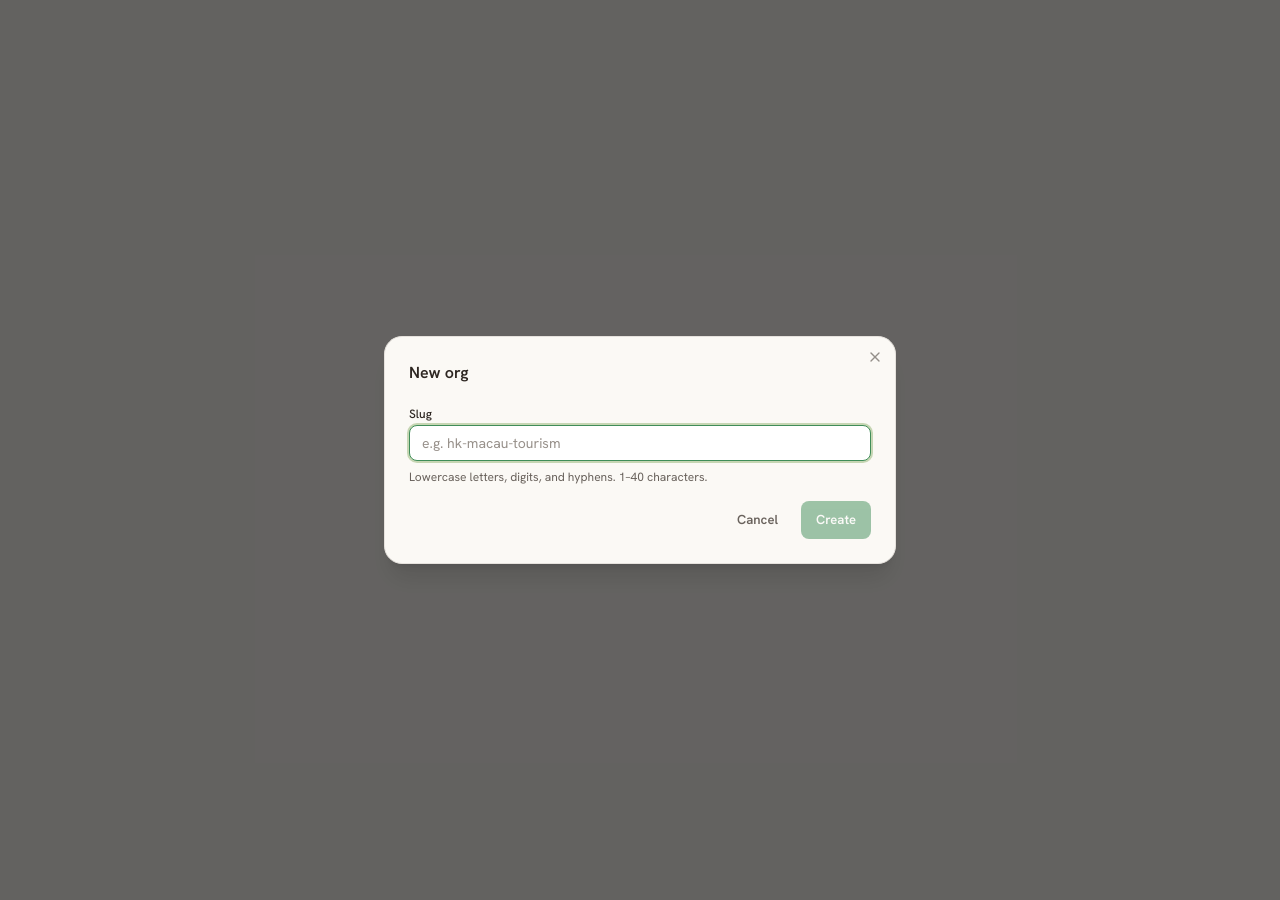
Test: AddOrgDialog › surfaces generic non-409 error as fallback message
Type "my-org" into the field labelled "Slug". click: (640, 443)
box: 409,425 -> 871,461
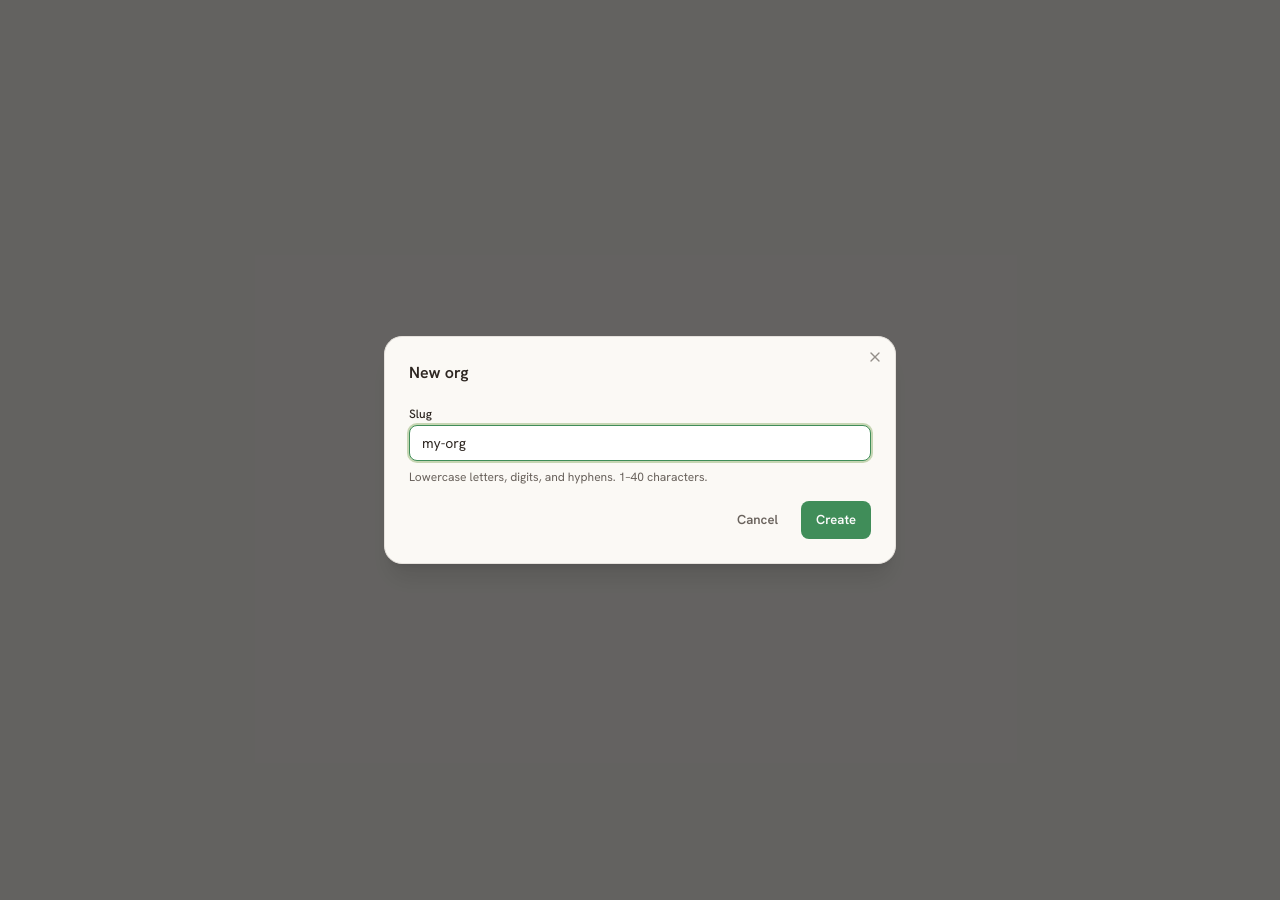
Click the button "Create". click: (836, 520)
box: 801,501 -> 871,539
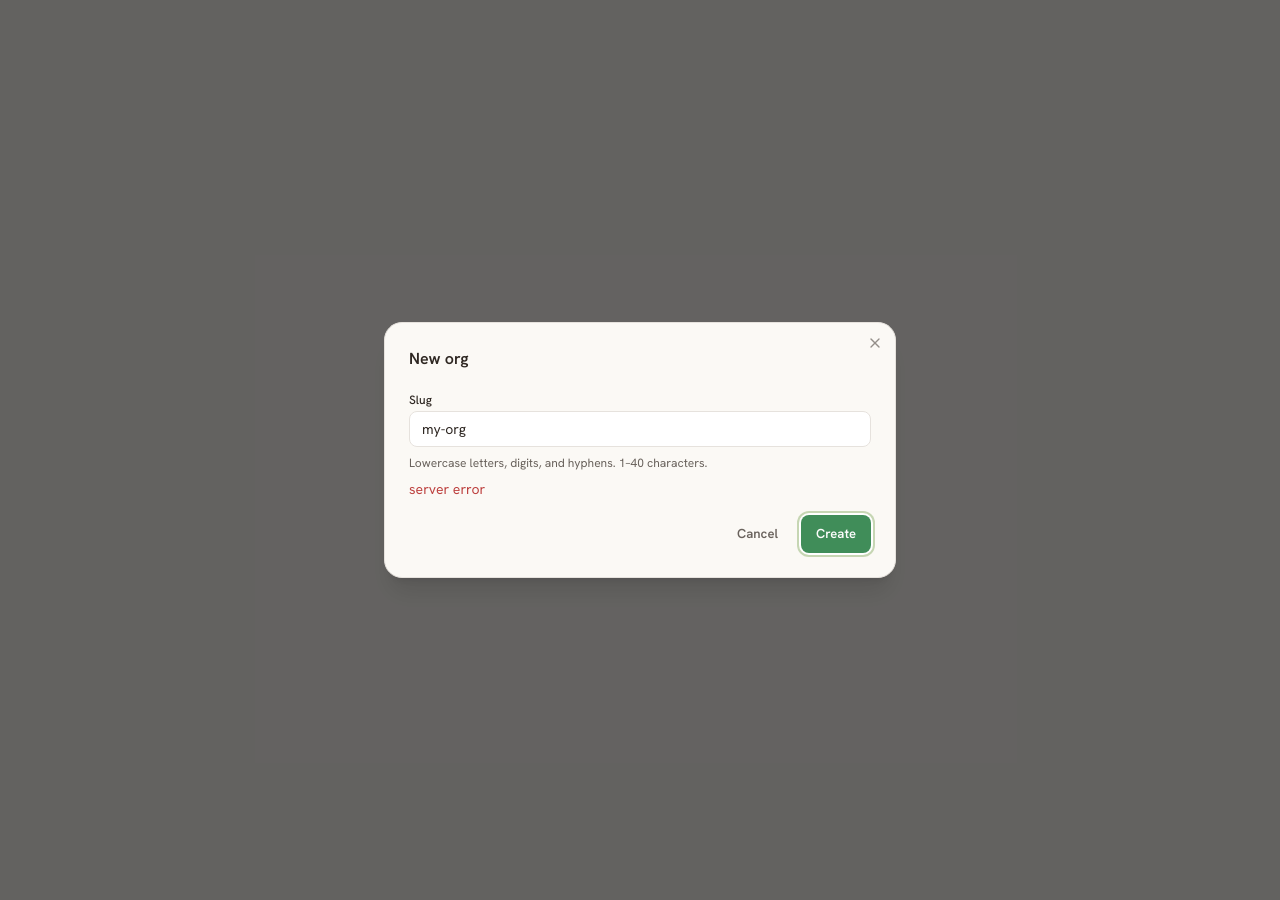
Expected: the text "server error" is shown, 409,480 -> 485,498
